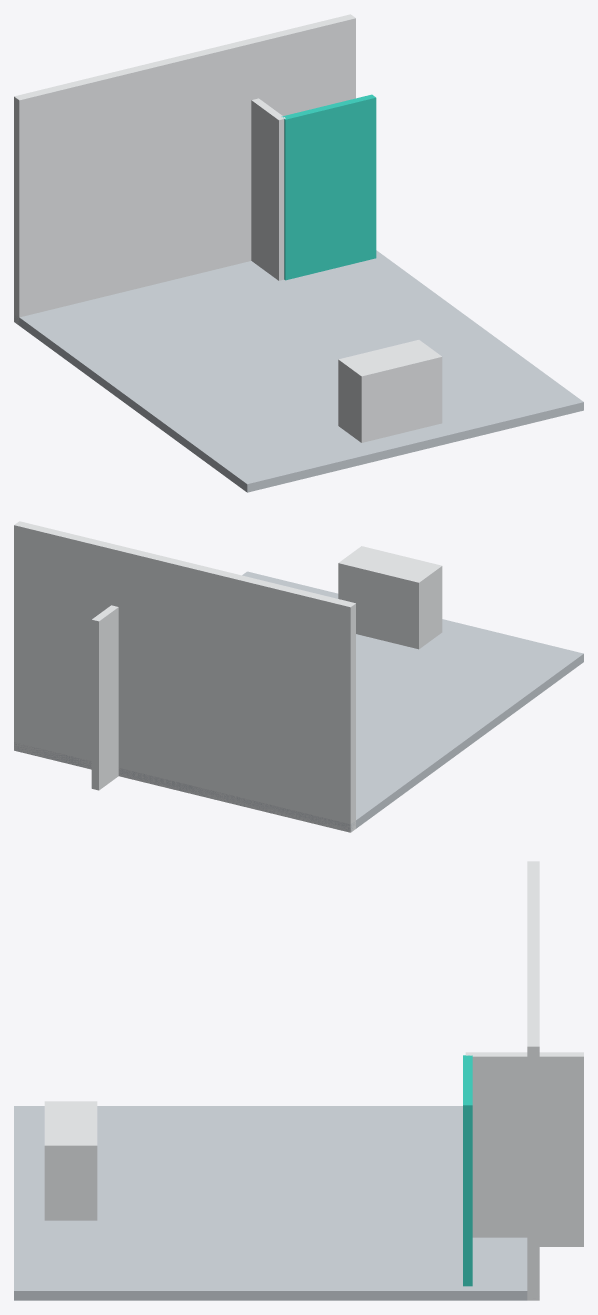
3 renders of one model, top to bottom at view 1: azimuth 30°, elevation 25°; view 2: azimuth 150°, elevation 25°; view 3: azimuth 270°, elevation 25°, orthographic. The views are drawn at different scales.
Parts seen in each view (by area): view 1: Exhibition Booth Concept; view 2: Exhibition Booth Concept; view 3: Exhibition Booth Concept.
Part boxes in pixels (<box>): Exhibition Booth Concept: <box>14,14,583,492</box>; Exhibition Booth Concept: <box>14,521,583,832</box>; Exhibition Booth Concept: <box>14,861,583,1300</box>.
Size of the model in its own units: 5 by 3.2 by 6.51.
